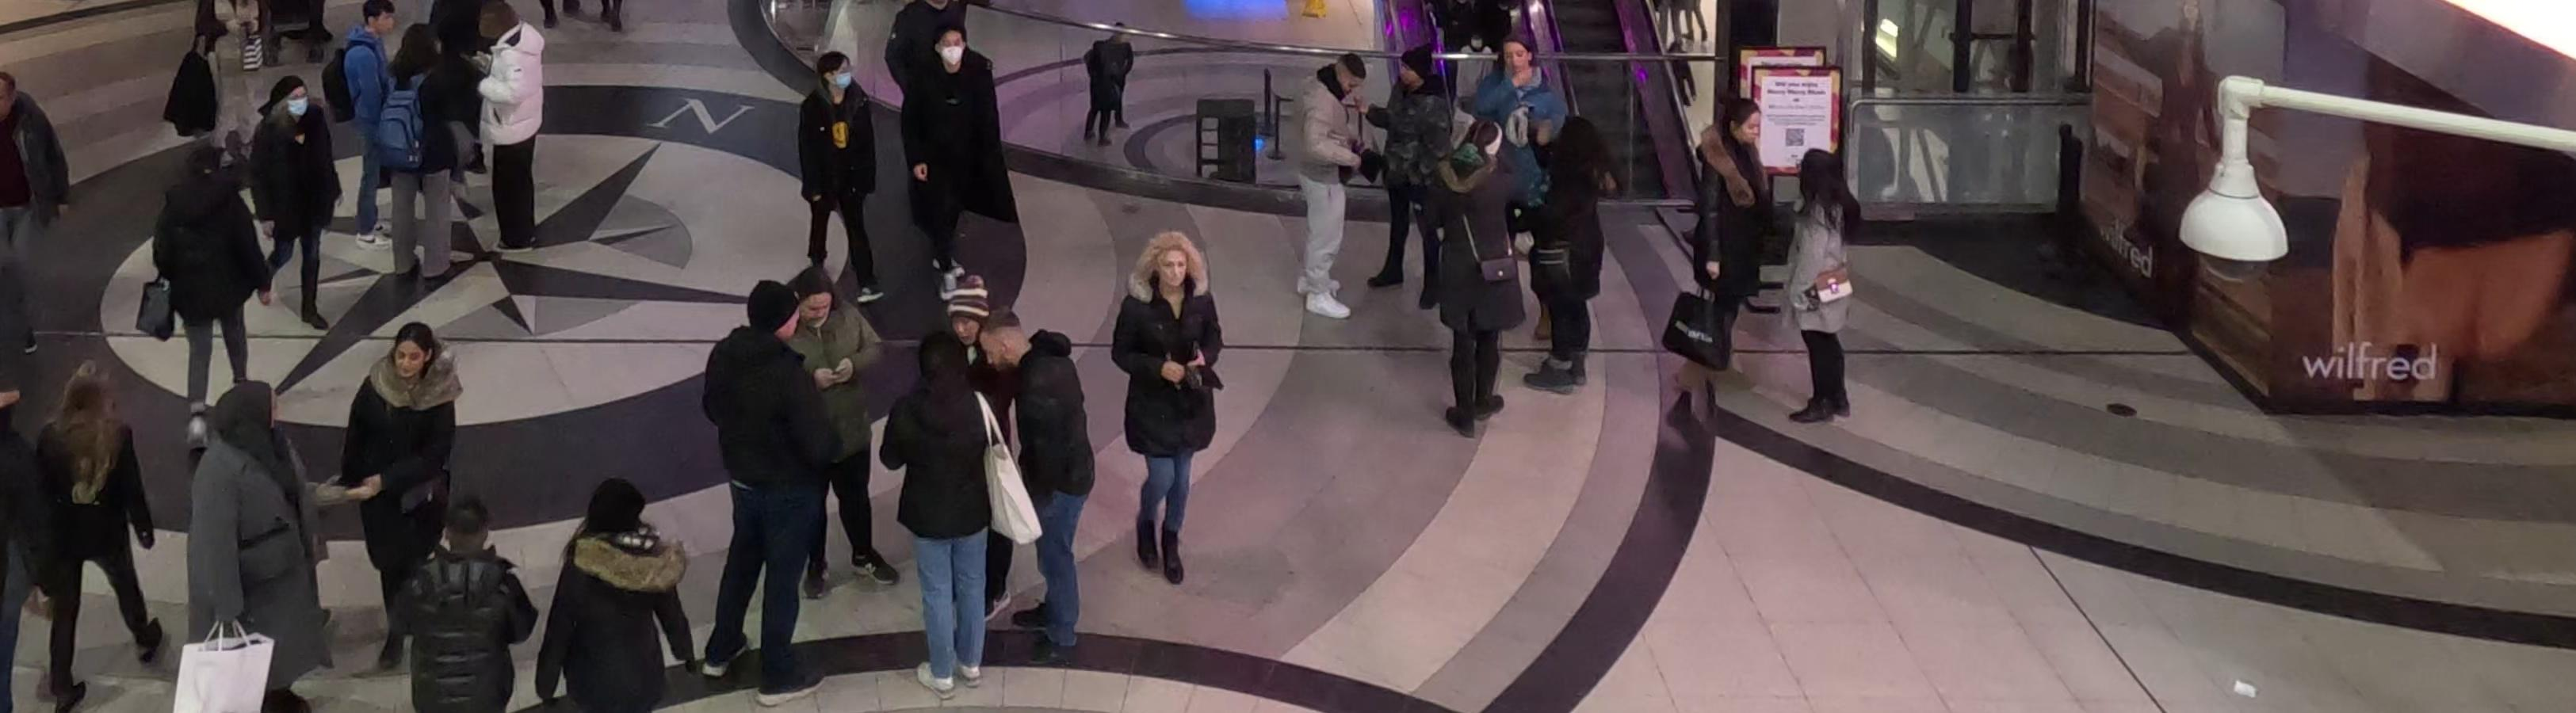person: (182, 373, 340, 692), (705, 278, 824, 706), (32, 369, 174, 712), (338, 322, 464, 690), (887, 330, 1003, 704), (979, 307, 1091, 670), (528, 476, 698, 713), (1118, 233, 1232, 587), (158, 146, 278, 407), (1439, 126, 1537, 433), (1687, 98, 1791, 381), (396, 498, 530, 706), (1513, 116, 1604, 407), (249, 76, 342, 340), (461, 1, 546, 282), (796, 47, 891, 296), (915, 23, 1014, 262), (1791, 142, 1870, 437), (1374, 43, 1458, 306), (1291, 47, 1363, 320), (334, 1, 411, 245)
